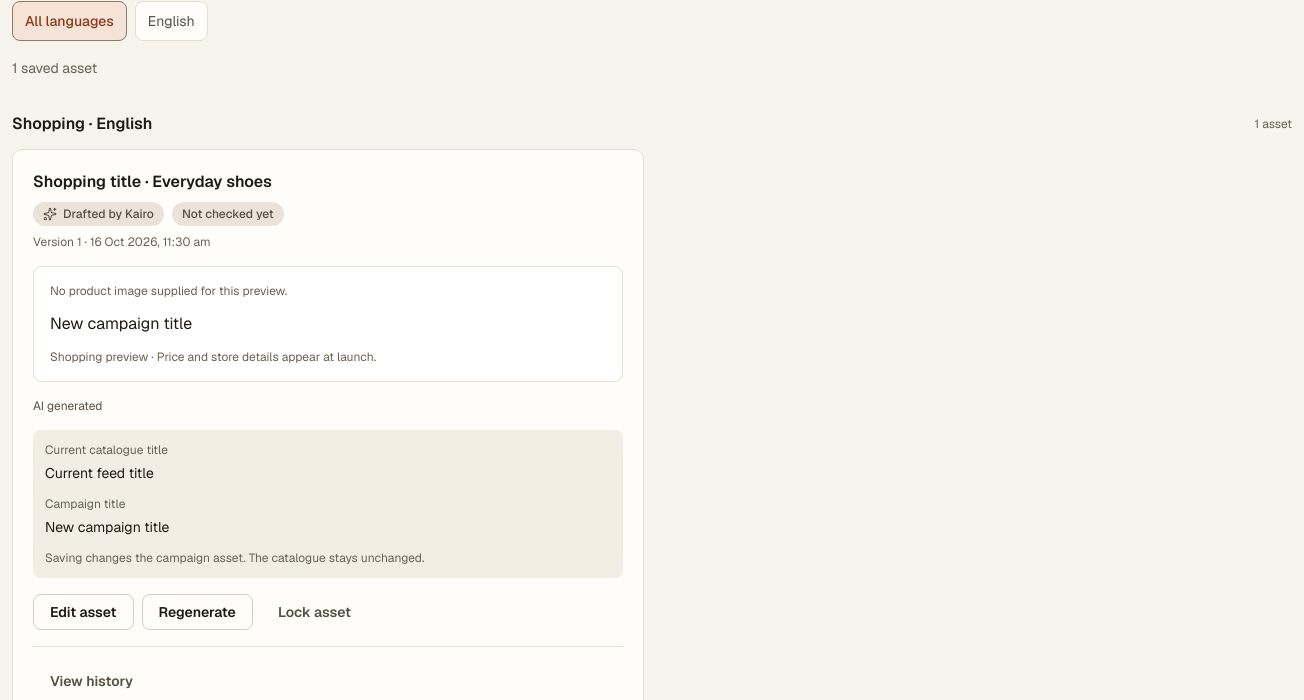
Test case: locks and unlocks using the saved version, keeping locked text read-only
(page scrolled)
What coordinates should you click on to do the following:
click the button "Lock asset"
I would click on:
 (314, 612)
Its box is left=261, top=594, right=368, bottom=630.
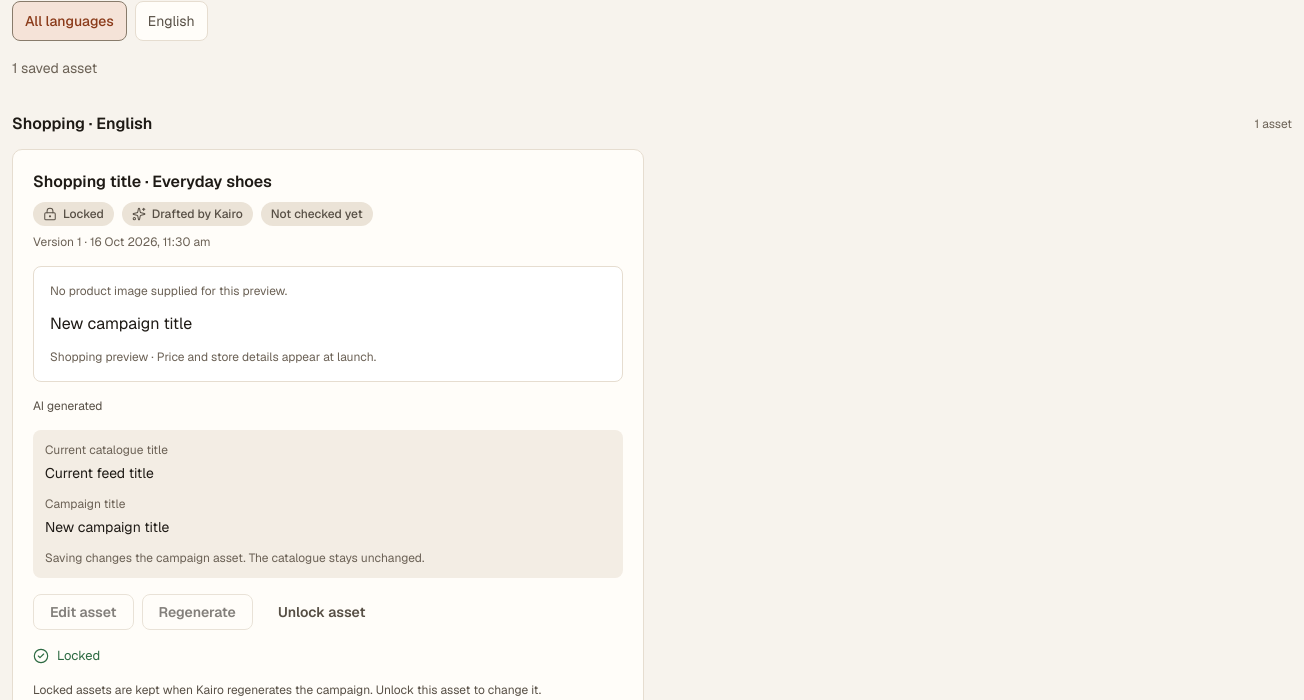
Check: the button "Unlock asset" is shown
Check: the button "Edit asset" is disabled, box left=33, top=594, right=134, bottom=630
What coordinates should you click on to do the following:
click the button "Unlock asset"
I would click on:
 (322, 612)
Its box is left=261, top=594, right=382, bottom=630.
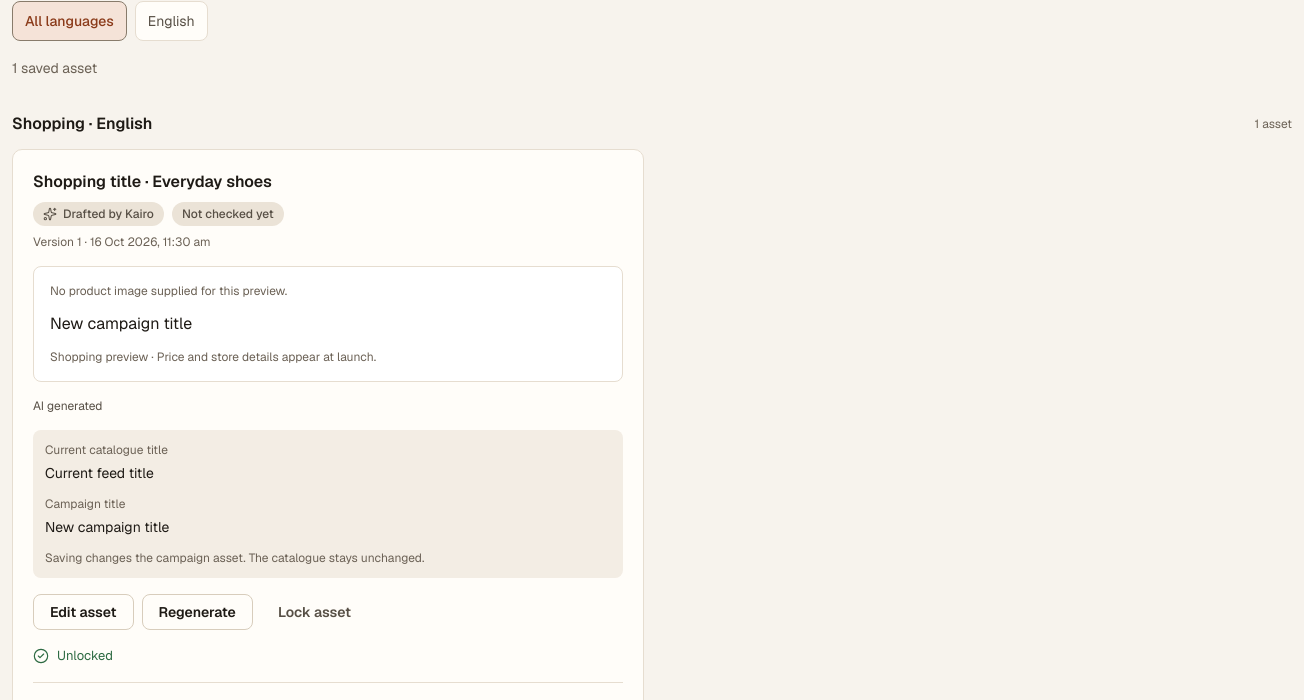
Check: the text "Unlocked" is shown, box left=57, top=646, right=113, bottom=666
Check: the button "Edit asset" is enabled, box left=33, top=594, right=134, bottom=630
